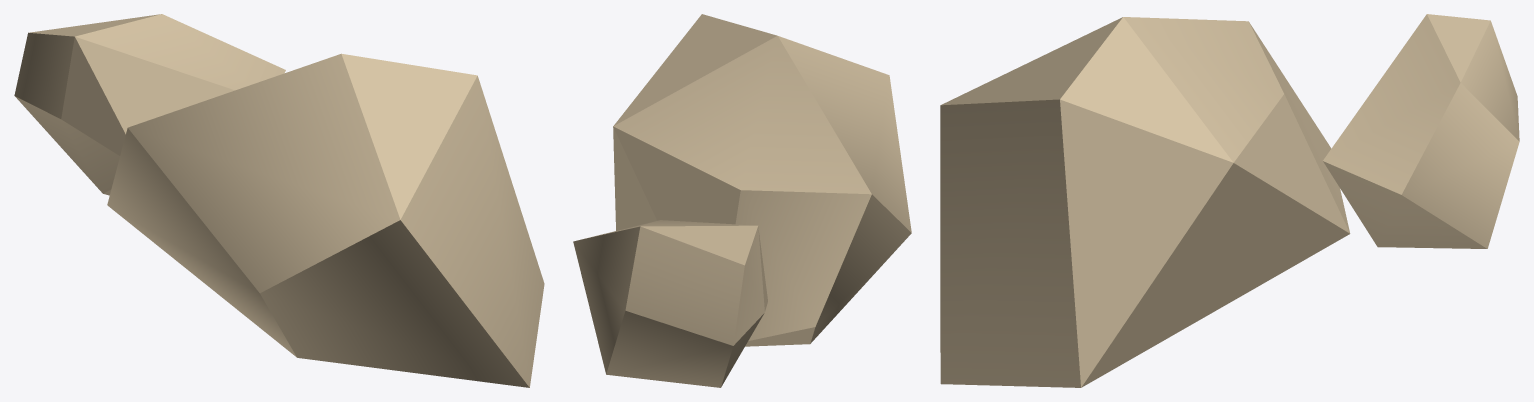
File: Piedra2.fbx
3 renders of one model, left to right at view 1: azimuth 30°, elevation 25°; view 2: azimuth 150°, elevation 25°; view 3: azimuth 270°, elevation 25°, orthographic. The views are drawn at different scales.
Visible parts, largest first — view 1: polySurface4; view 2: polySurface4; view 3: polySurface4.
Part boxes in pixels (x1,y1,x2,y2): polySurface4: (14,14,544,387); polySurface4: (573,14,911,387); polySurface4: (940,14,1519,387).
Size of the model in its own units: 1.4 by 1.18 by 1.95.
